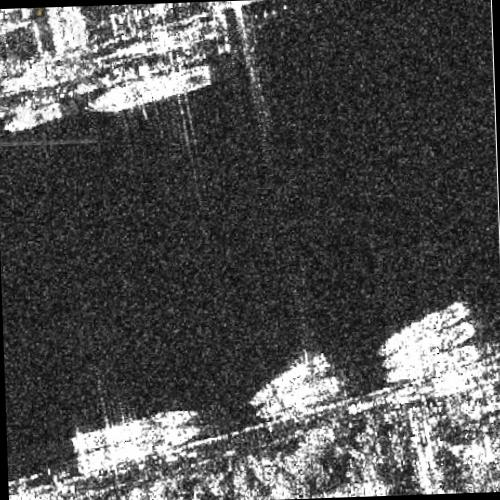ship: (84, 64, 213, 114), (69, 407, 199, 456), (74, 425, 204, 474), (375, 298, 471, 356), (380, 318, 478, 370), (248, 350, 333, 407), (383, 342, 482, 384), (255, 372, 343, 419), (2, 100, 64, 133)
